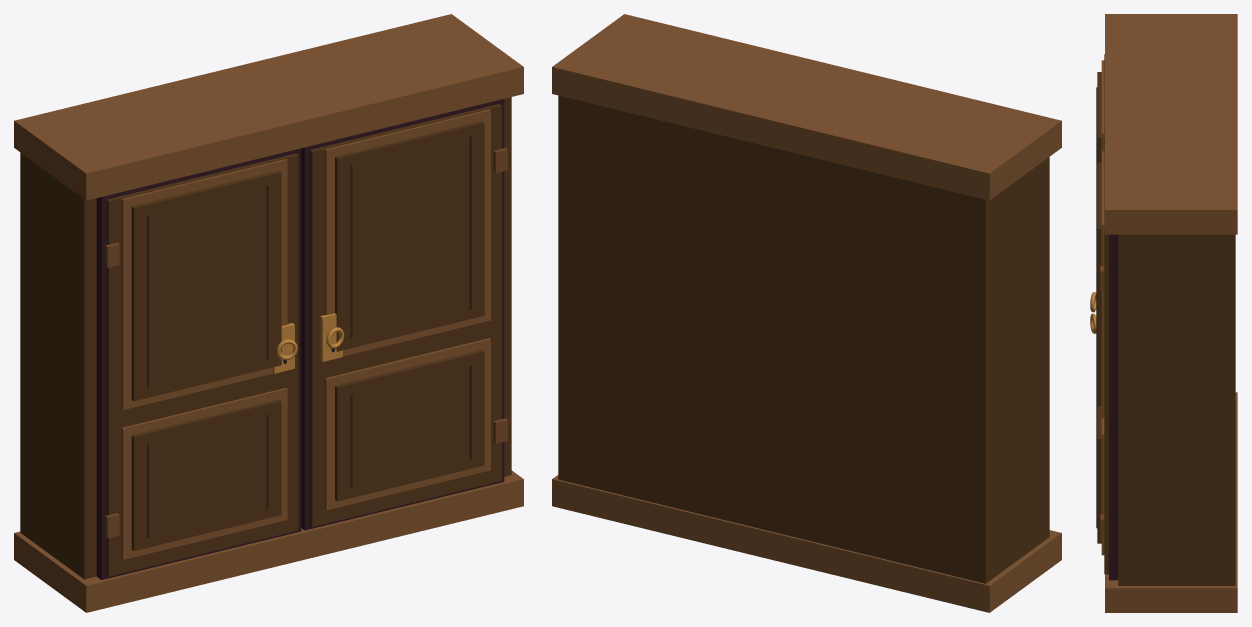
The model's file is mia-wardrobe.glb.
3 views of the same model, side by side, from view 1: azimuth 30°, elevation 25°; view 2: azimuth 150°, elevation 25°; view 3: azimuth 270°, elevation 25° (orthographic). The views are drawn at different scales.
Visible parts, largest first — view 1: Body_wood, Body_oak, Body_dark, Body_grain, Body_brass, Body_rust; view 2: Body_wood, Body_oak; view 3: Body_wood, Body_oak, Body_dark, Body_grain, Body_brass, Body_rust.
Boxes of the visible parts, x1,y1,x2,y2 form: Body_wood: (20, 97, 511, 579); Body_oak: (14, 14, 523, 612); Body_dark: (96, 99, 504, 579); Body_grain: (147, 136, 471, 537); Body_brass: (272, 313, 344, 373); Body_rust: (105, 148, 507, 538); Body_wood: (558, 95, 1049, 583); Body_oak: (552, 14, 1061, 612); Body_wood: (1097, 54, 1235, 585); Body_oak: (1101, 14, 1237, 612); Body_dark: (1109, 234, 1118, 580); Body_grain: (1096, 87, 1097, 528); Body_brass: (1090, 292, 1096, 333); Body_rust: (1100, 266, 1104, 538).
Bounding box in the file's own units: 2.2 × 2.11 × 0.7007.
